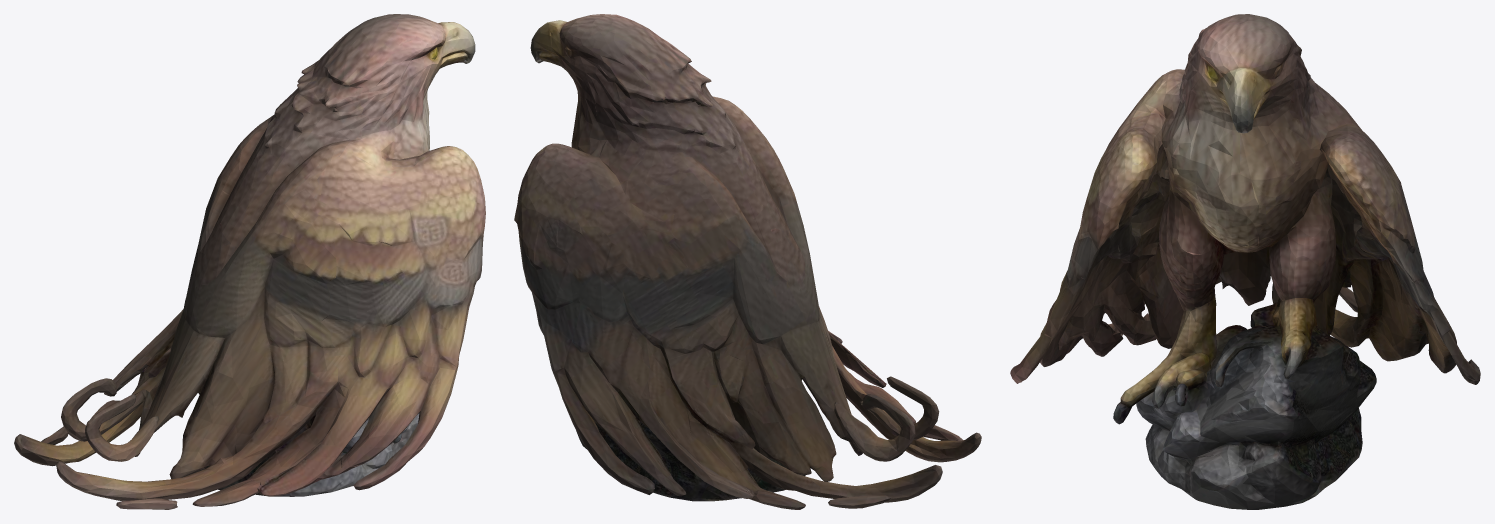
The model's file is mesaRoc.glb.
The picture shows the model from 3 angles, left to right: view 1: azimuth 30°, elevation 25°; view 2: azimuth 150°, elevation 25°; view 3: azimuth 270°, elevation 25°; orthographic projection. The views are drawn at different scales.
Visible parts, largest first — view 1: world; view 2: world; view 3: world.
Part boxes in pixels (x1,y1,x2,y2): world: (14, 14, 485, 509); world: (514, 14, 981, 509); world: (1010, 14, 1480, 509).
Size of the model in its own units: 1 by 0.9139 by 0.8077.
Materials: 1 (1 with a texture image).
